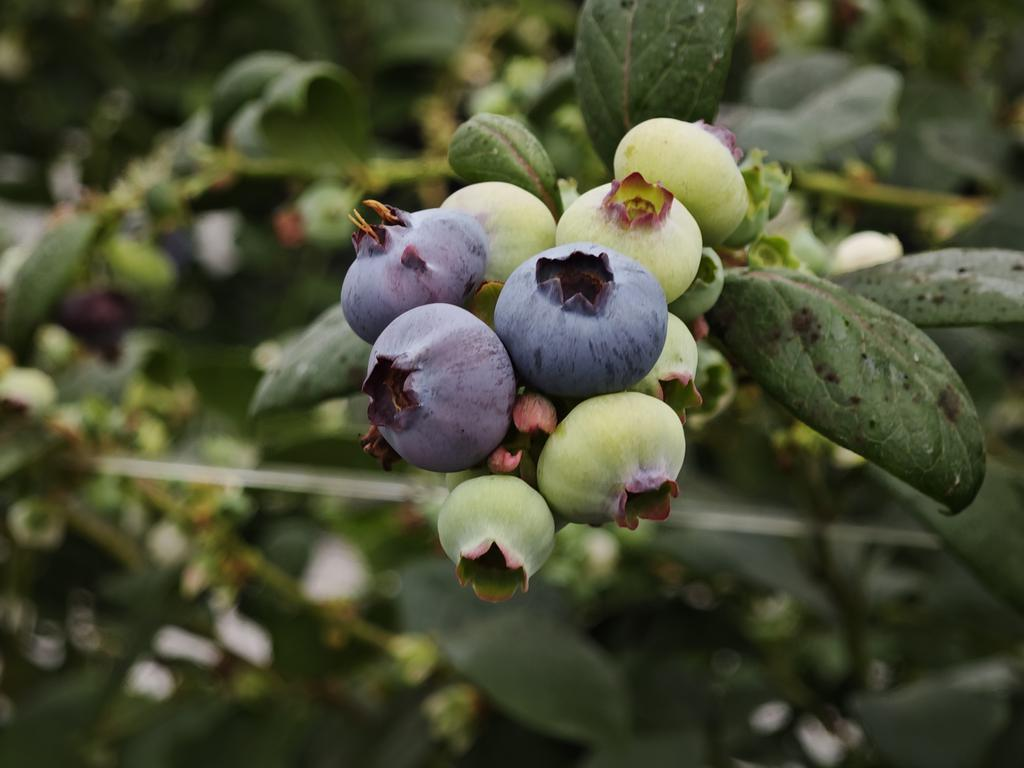RipeBlueBerry: (493, 241, 672, 400), (358, 298, 515, 471), (337, 201, 488, 335)
UnripeBlueBerry: (538, 391, 688, 527), (611, 116, 752, 244), (437, 472, 560, 603)
